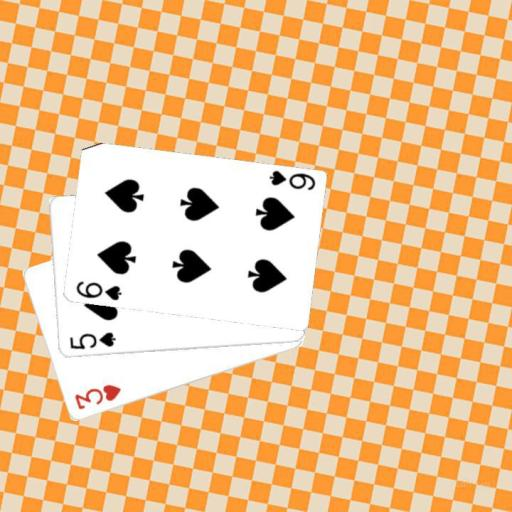3H: (71, 381, 122, 412)
5S: (66, 330, 117, 352)
6S: (73, 278, 123, 302), (266, 168, 316, 192)
